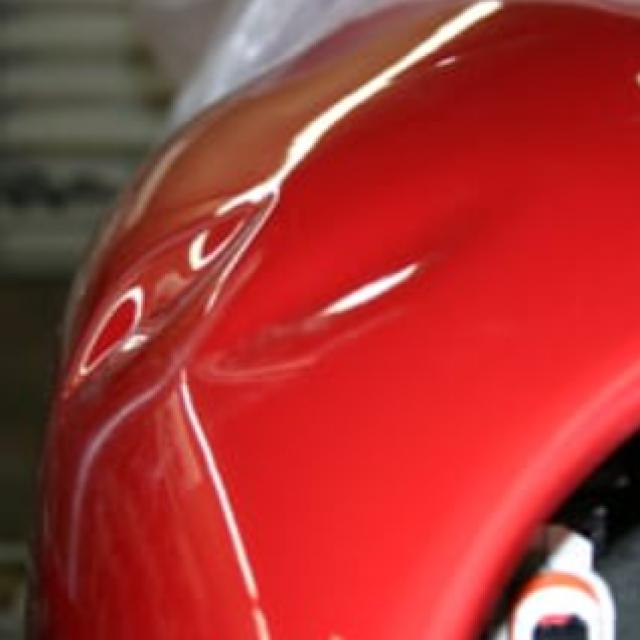dents: (232, 206, 484, 434)
